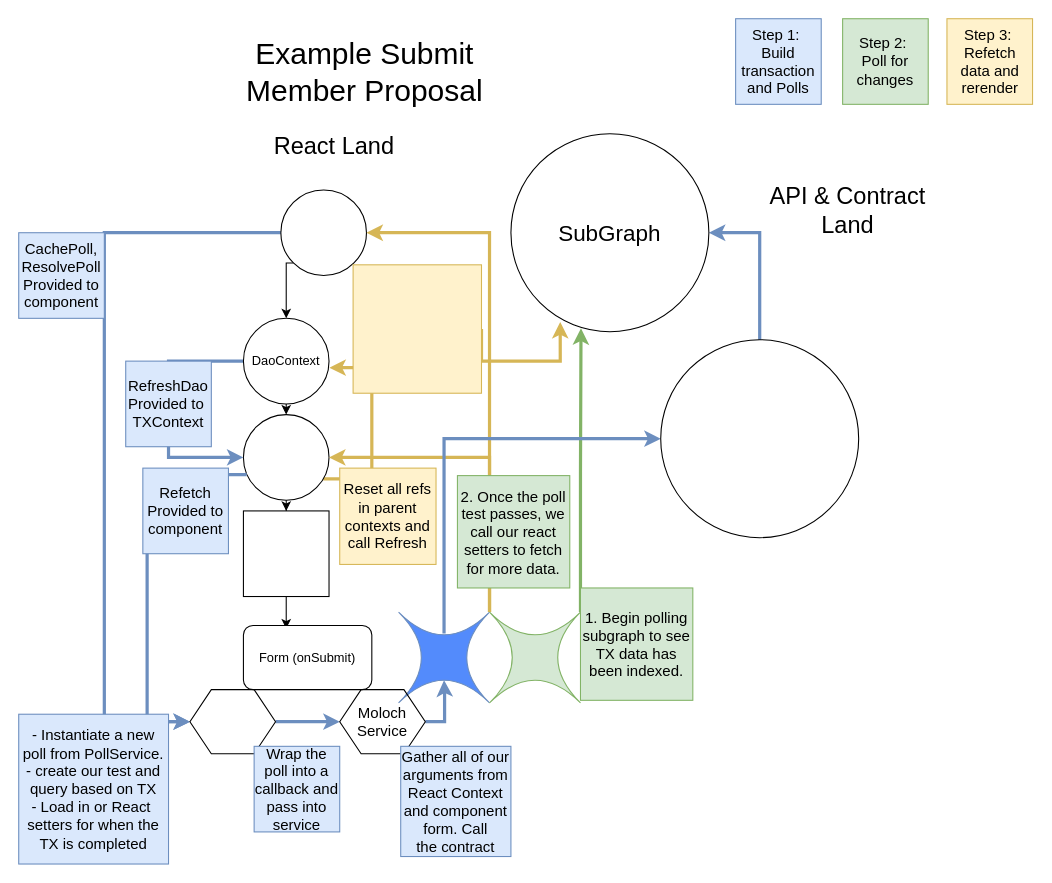
Some shapes in this 1052 by 883 pixel diagram are drawn without their labels. The shapes that lost their labels are listed below. From the top down, each one's centre as x and y in pixels, then its label:
At [323,232]: "UserContext".
At [417,328]: "Refetch Dao data from Graph. Then finally rerender Component tree.".
At [285,457]: "TxContext".
At [759,438]: "MolochContract".
At [285,553]: "Proposal Component".
At [444,657]: "Transaction Starts".
At [534,657]: "Polling Starts".
At [232,721]: "CreatePoll".
